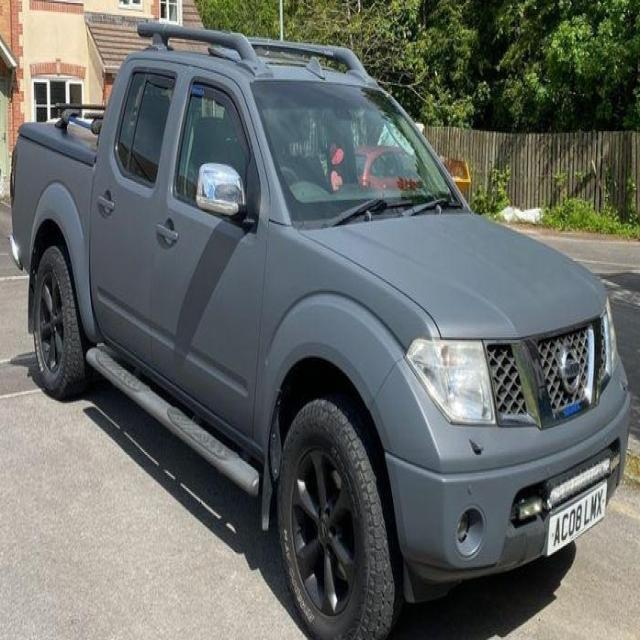CMT: (10, 54, 627, 638)
